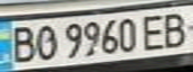0: (115, 15, 142, 54)
6: (100, 17, 121, 55)
9: (78, 18, 103, 57), (60, 20, 84, 60)
B: (3, 24, 39, 64), (157, 9, 193, 48)
E: (139, 11, 172, 52)
O: (30, 23, 60, 62)
